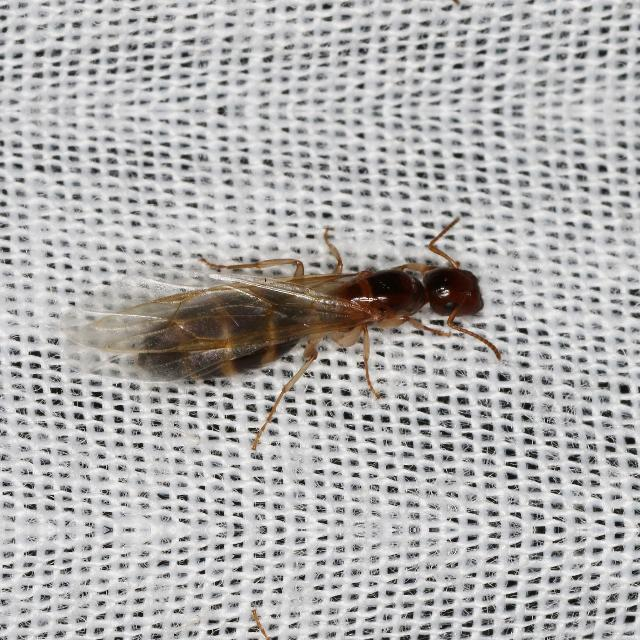Colobopsis: (84, 224, 526, 392)
